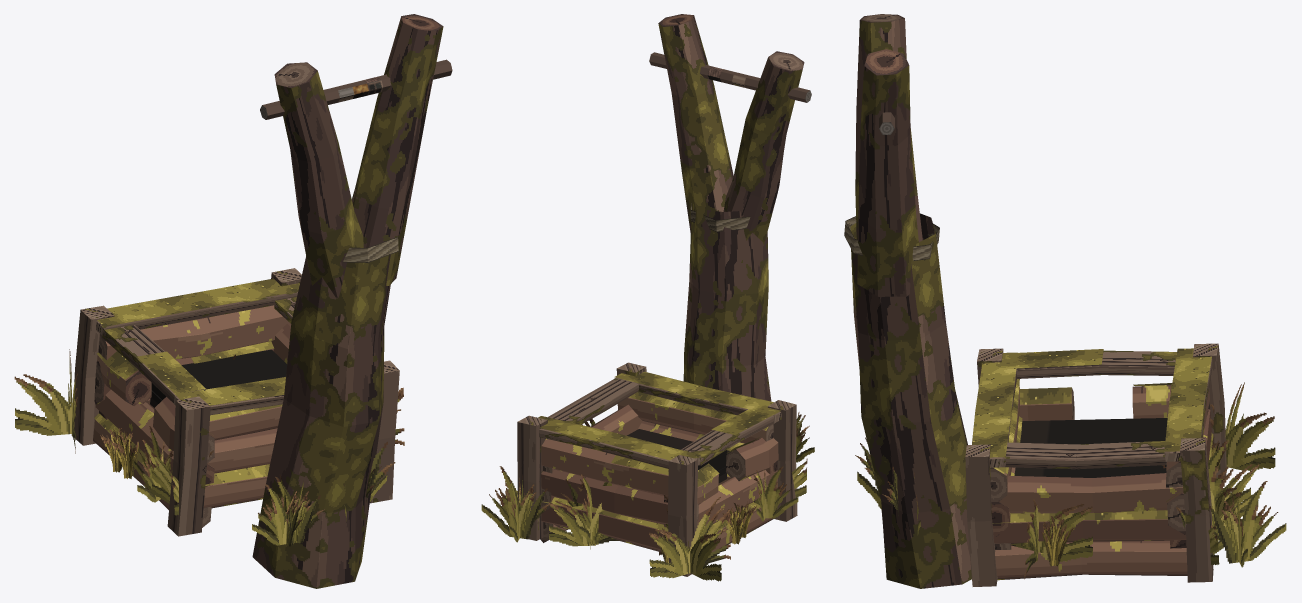
File: SM_SW18_WellSweep.fbx
The picture shows the model from 3 angles, left to right: view 1: azimuth 30°, elevation 25°; view 2: azimuth 150°, elevation 25°; view 3: azimuth 270°, elevation 25°; orthographic projection. The views are drawn at different scales.
Parts seen in each view (by area): view 1: SW18a_BarkMossy, SW18a_LogWall, SW18a_Planks, SW18a_Props, SW18a_Plants, SW18a_Moss; view 2: SW18a_BarkMossy, SW18a_LogWall, SW18a_Planks, SW18a_Plants, SW18a_Moss, SW18a_Props; view 3: SW18a_BarkMossy, SW18a_LogWall, SW18a_Planks, SW18a_Plants, SW18a_Props, SW18a_Moss.
Boxes of the visible parts, box(x1,y1,x2,y2) form: SW18a_BarkMossy: box(252, 16, 443, 588); SW18a_LogWall: box(93, 305, 291, 509); SW18a_Planks: box(71, 273, 399, 536); SW18a_Props: box(81, 14, 452, 527); SW18a_Plants: box(14, 349, 404, 546); SW18a_Moss: box(94, 278, 299, 485); SW18a_BarkMossy: box(658, 15, 802, 401); SW18a_LogWall: box(541, 397, 778, 551); SW18a_Planks: box(517, 367, 797, 576); SW18a_Plants: box(481, 412, 814, 581); SW18a_Moss: box(538, 371, 780, 534); SW18a_Props: box(517, 14, 811, 562); SW18a_BarkMossy: box(850, 18, 971, 588); SW18a_LogWall: box(990, 385, 1212, 580); SW18a_Planks: box(965, 345, 1226, 586); SW18a_Plants: box(855, 382, 1286, 579); SW18a_Props: box(844, 14, 1218, 549); SW18a_Moss: box(972, 348, 1212, 523).
Bounding box in the file's own units: 2.45 × 4.53 × 3.28.
